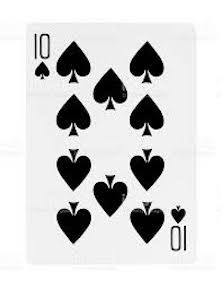TenOfSpades: (20, 18, 200, 267)
